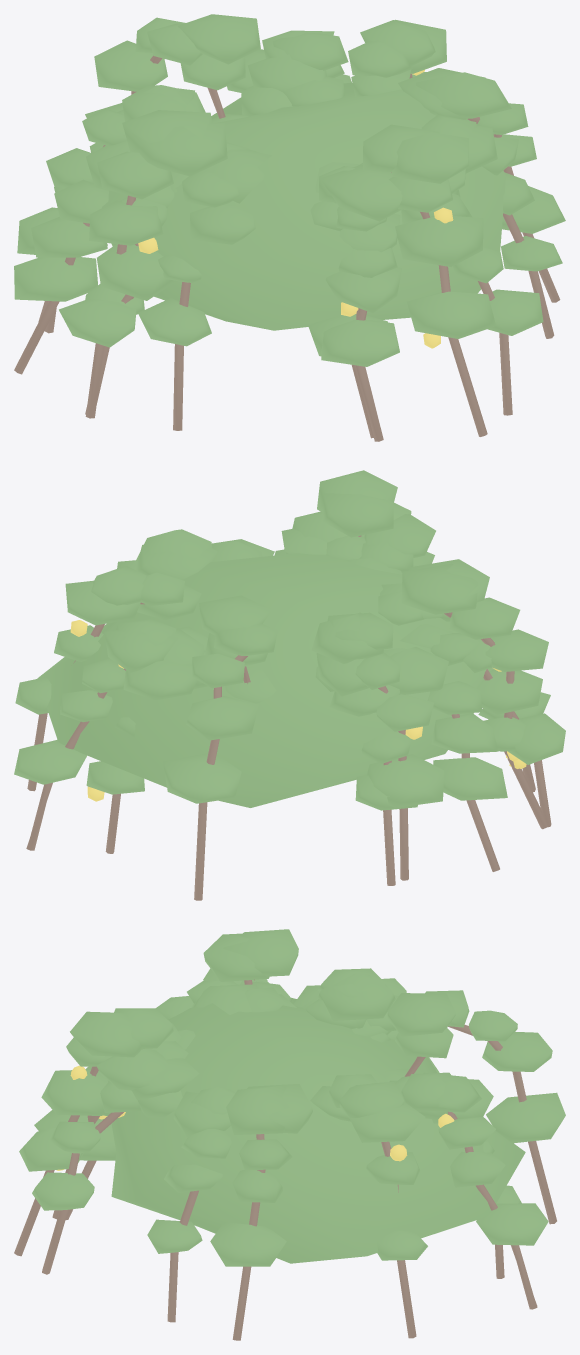
Rendered from Blender_Bramble_1.glb.
3 renders of one model, top to bottom at view 1: azimuth 30°, elevation 25°; view 2: azimuth 150°, elevation 25°; view 3: azimuth 270°, elevation 25°, orthographic. The views are drawn at different scales.
Parts seen in each view (by area): view 1: Blender_Bramble_1; view 2: Blender_Bramble_1; view 3: Blender_Bramble_1.
Boxes of the visible parts, <box> form: Blender_Bramble_1: <box>14,14,565,441</box>; Blender_Bramble_1: <box>14,470,565,900</box>; Blender_Bramble_1: <box>14,929,565,1340</box>.
Size of the model in its own units: 2.56 by 1.31 by 2.7.
